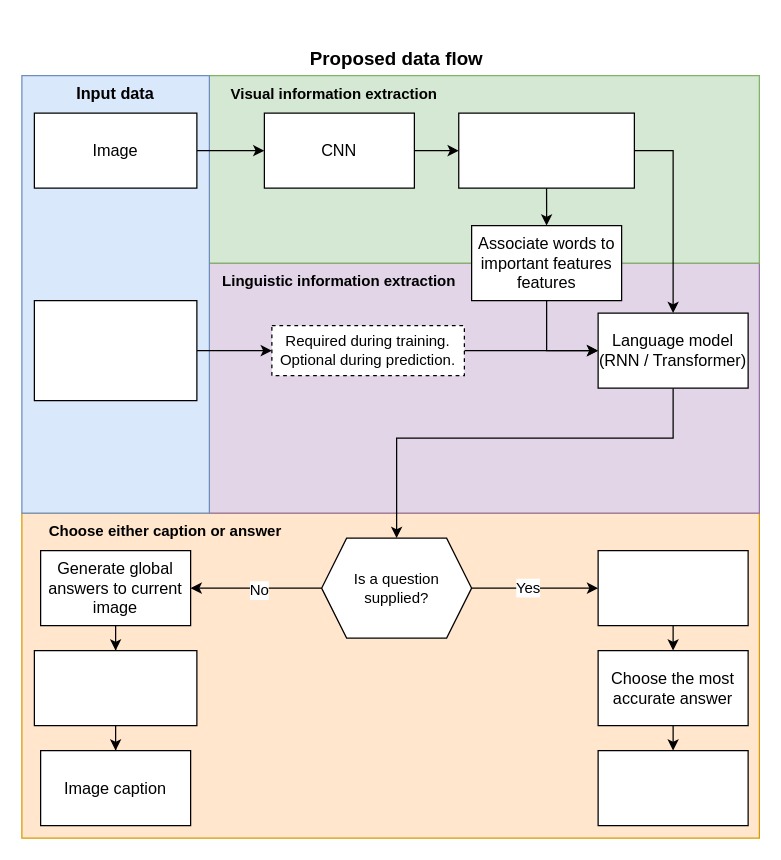
This 781x860 diagram has some shape labels left out. Each missing label, with the centre of its shape:
"Answer" belongs at (x=672, y=787).
"Extract subset of important features in each layer" belongs at (x=546, y=150).
"Generate answers to current image and question" belongs at (x=672, y=587).
"Generate the most accurate caption from the best answers" belongs at (x=115, y=687).
"Questions (and ground truth answers during training)" belongs at (x=115, y=350).
